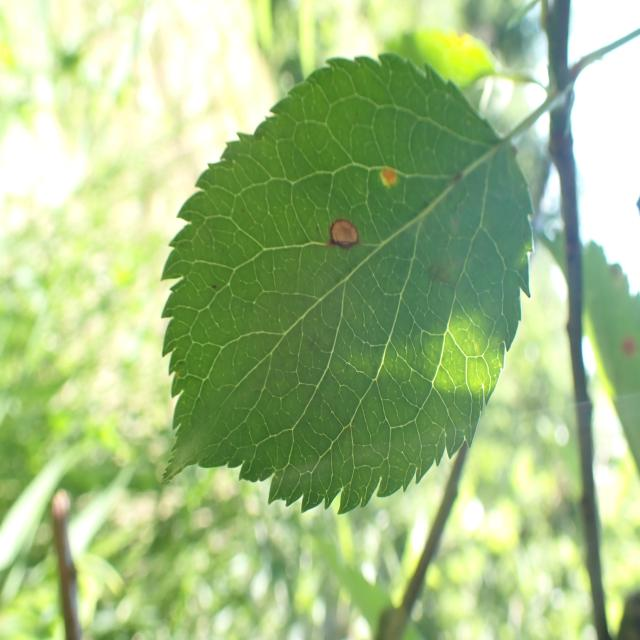frog-eye-leaf-spot: (160, 52, 536, 516)
